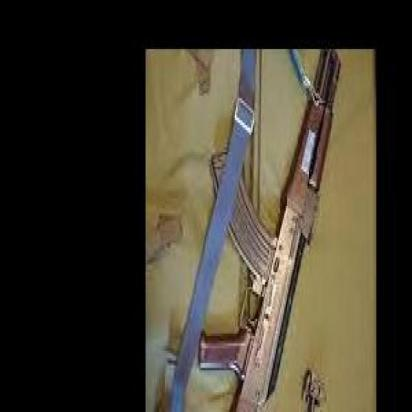Gun: (197, 50, 342, 412)
